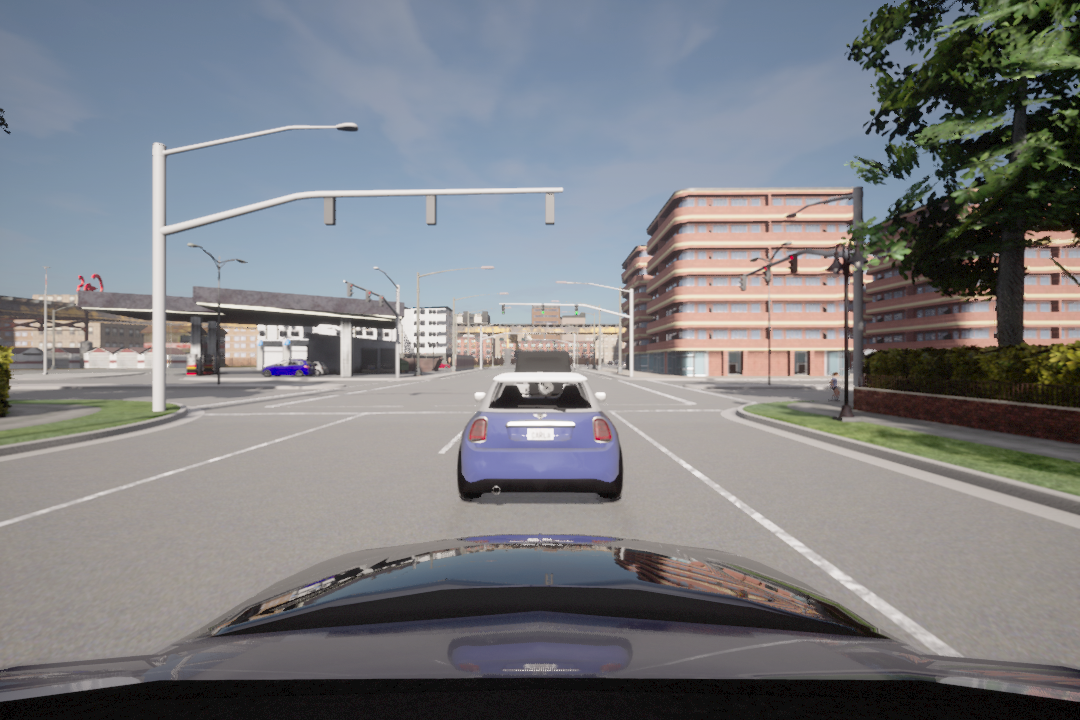TrafficLight: (785, 252, 802, 275), (762, 263, 773, 283), (738, 273, 748, 291), (347, 281, 355, 300), (365, 286, 371, 306), (538, 304, 547, 317), (378, 294, 384, 309), (499, 304, 505, 317), (574, 305, 579, 316)
